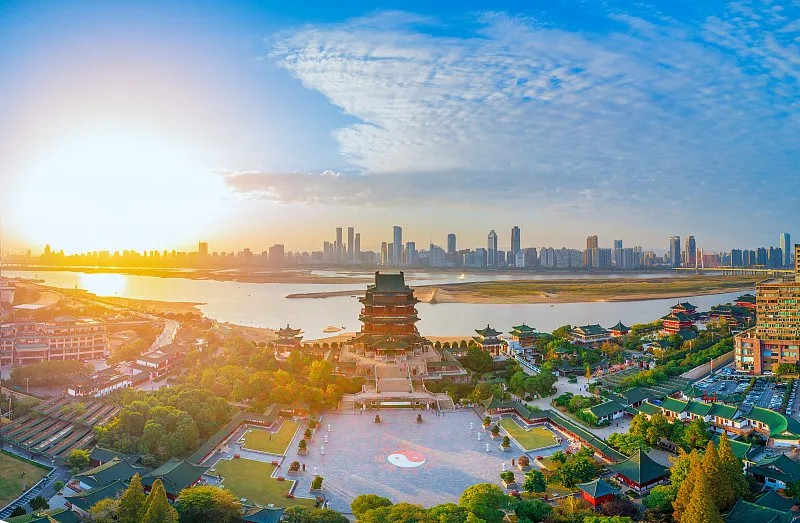Teng: (345, 272, 432, 355)
